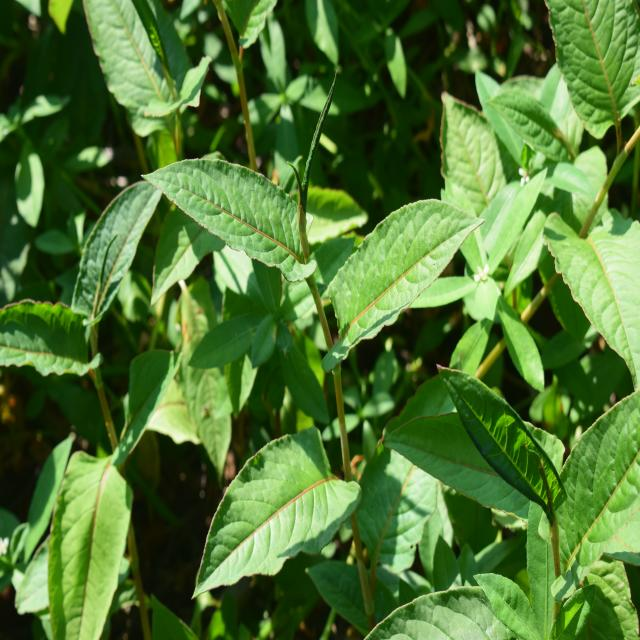Chinese_knotweed: (145, 132, 483, 558)
